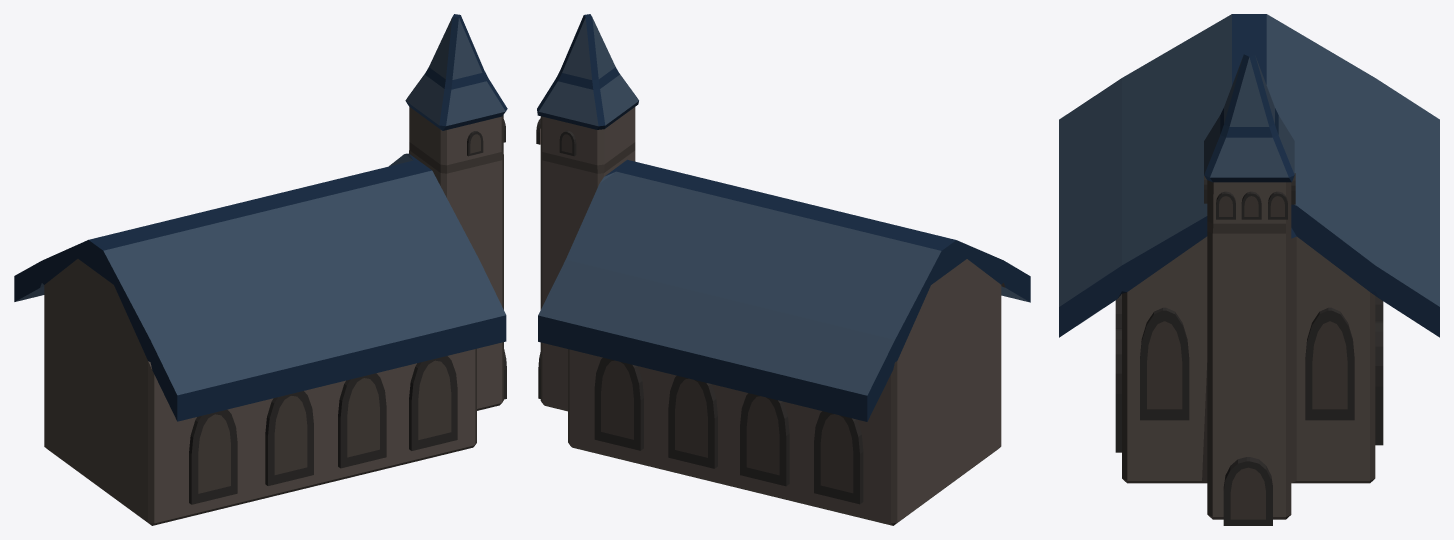
File: church.fbx
3 views of the same model, side by side, from view 1: azimuth 30°, elevation 25°; view 2: azimuth 150°, elevation 25°; view 3: azimuth 270°, elevation 25° (orthographic). The views are drawn at different scales.
Visible parts, largest first — view 1: Cube, Cylinder.009, Cylinder.008, Cylinder.011, Cylinder.010; view 2: Cube, Cylinder.006, Cylinder.005, Cylinder.004, Cylinder.007; view 3: Cube, Cylinder.003, Cylinder.001, Cylinder.002, Cylinder.004, Cylinder.008, Cylinder.013, Cylinder.012, Cylinder.014.
Boxes of the visible parts, left/top/right/bottom form: Cube: left=14, top=14, right=507, bottom=525; Cylinder.009: left=338, top=373, right=386, bottom=468; Cylinder.008: left=409, top=356, right=457, bottom=450; Cylinder.011: left=189, top=409, right=237, bottom=504; Cylinder.010: left=265, top=391, right=313, bottom=485; Cube: left=537, top=14, right=1030, bottom=525; Cylinder.006: left=740, top=393, right=789, bottom=486; Cylinder.005: left=668, top=375, right=717, bottom=468; Cylinder.004: left=594, top=357, right=643, bottom=450; Cylinder.007: left=814, top=411, right=863, bottom=504; Cube: left=1059, top=14, right=1439, bottom=519; Cylinder.003: left=1305, top=307, right=1354, bottom=420; Cylinder.001: left=1140, top=307, right=1189, bottom=420; Cylinder.002: left=1223, top=457, right=1272, bottom=525; Cylinder.004: left=1375, top=320, right=1383, bottom=445; Cylinder.008: left=1115, top=328, right=1121, bottom=452; Cylinder.013: left=1241, top=191, right=1261, bottom=219; Cylinder.012: left=1216, top=191, right=1235, bottom=219; Cylinder.014: left=1268, top=191, right=1287, bottom=219.
Size of the model in its own units: 700 by 644 by 494.
